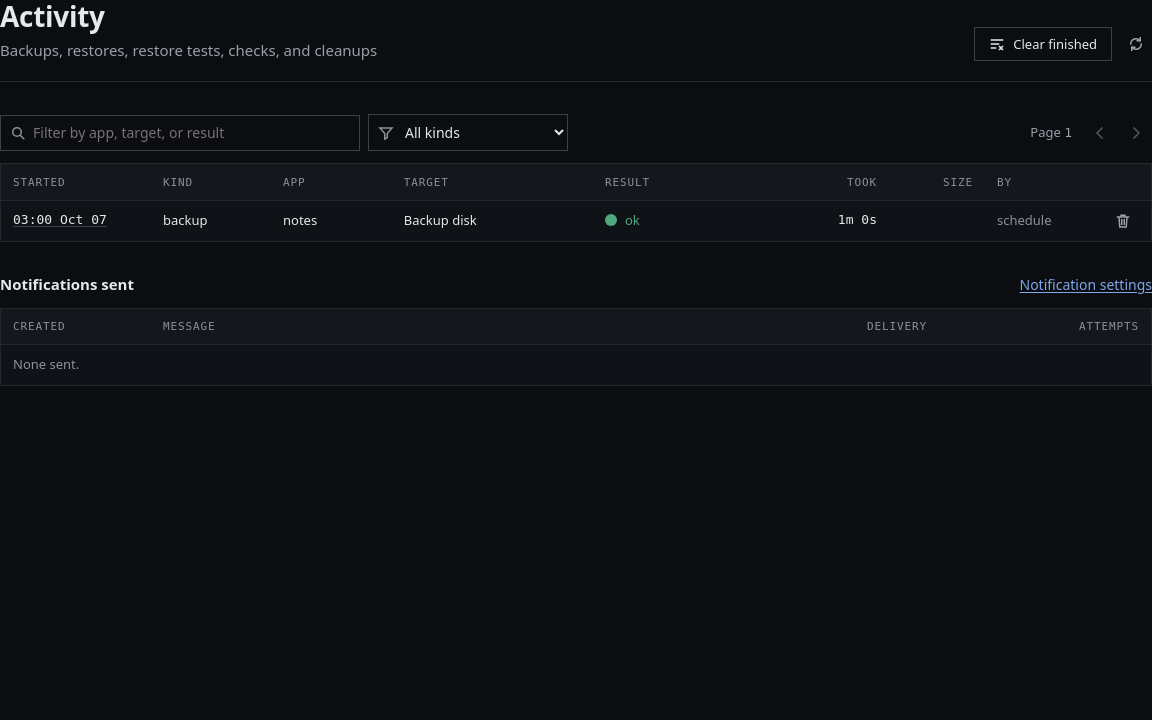
Test: clears finished runs and keeps the error of a refused removal
Click the button "Clear finished": (1043, 44) x1=974 y1=27 x2=1112 y2=61
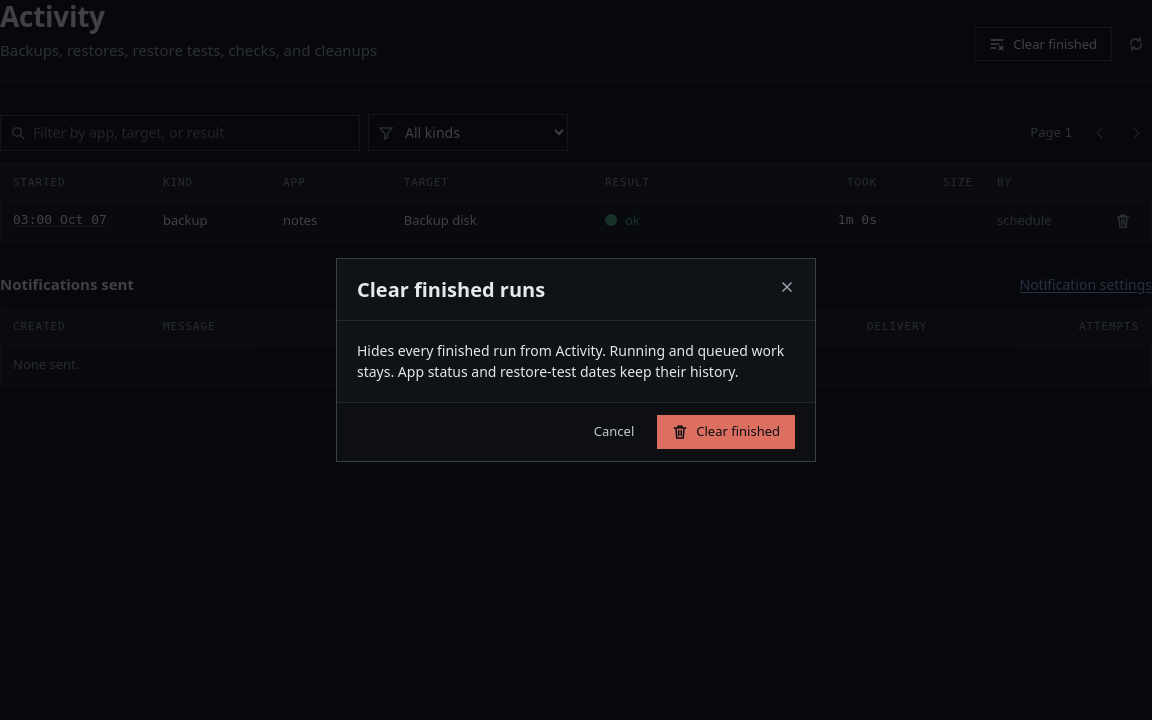
Click the button "Clear finished": (726, 432) x1=657 y1=415 x2=795 y2=449
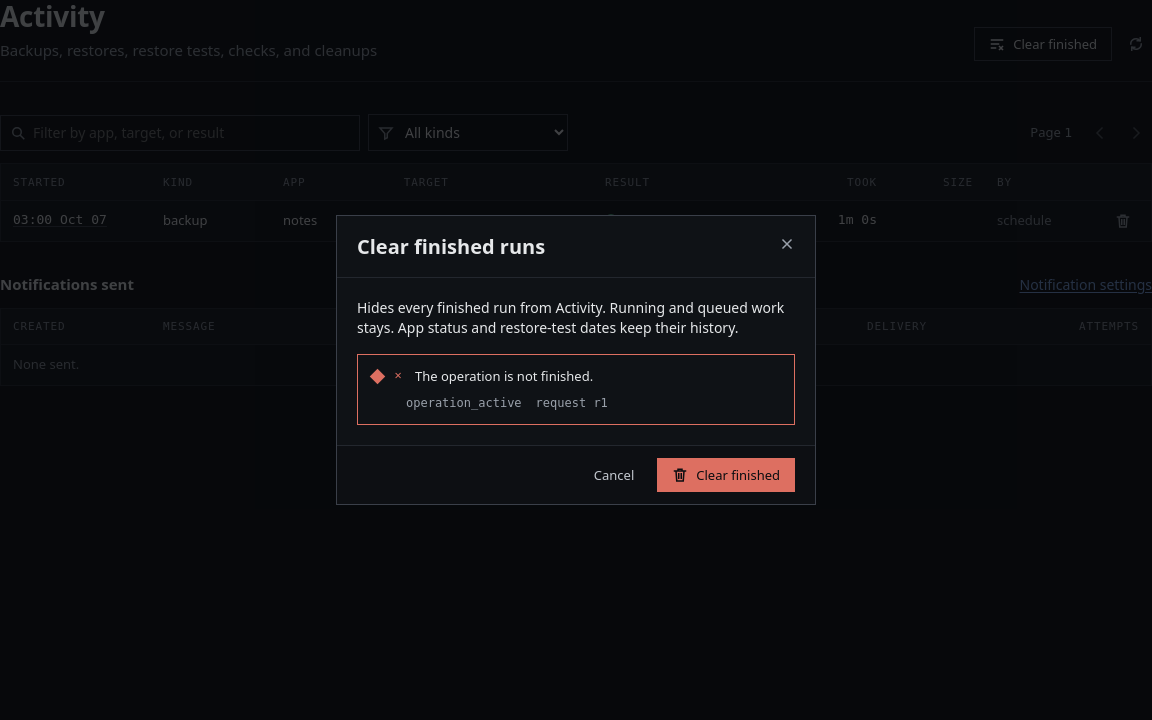
Result: the message shows "operation_active" at x1=406 y1=396 x2=522 y2=410
